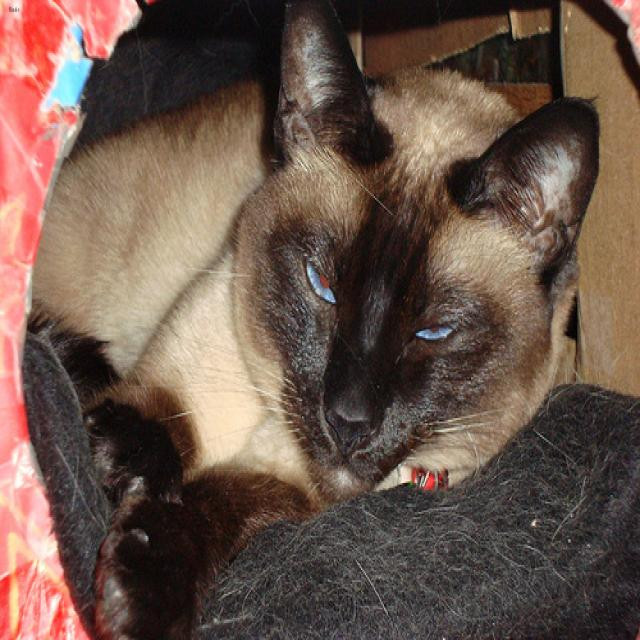cat: (233, 0, 596, 502)
